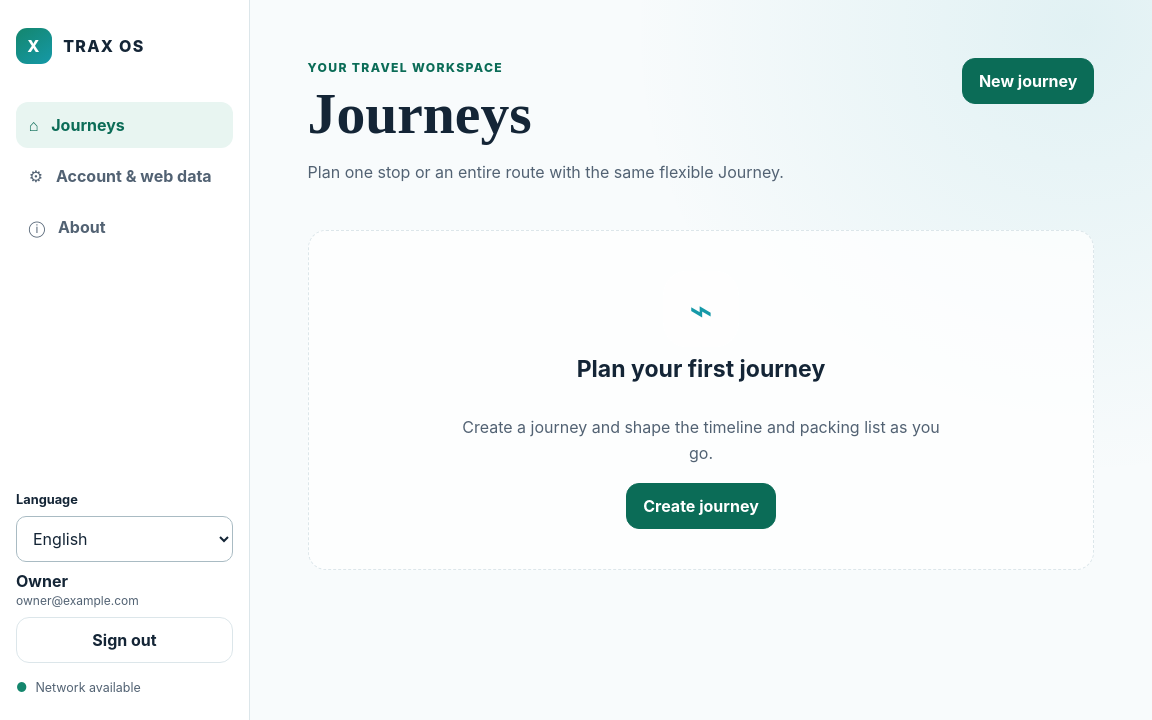
Test: switches the complete shell to Dutch and persists the choice
Expected: the heading "Plan your first journey" is shown, [577,356,825,384]
Step 1. Select "Nederlands" in the dropdown labelled "Language" → (124, 539), box [16,516,233,562]
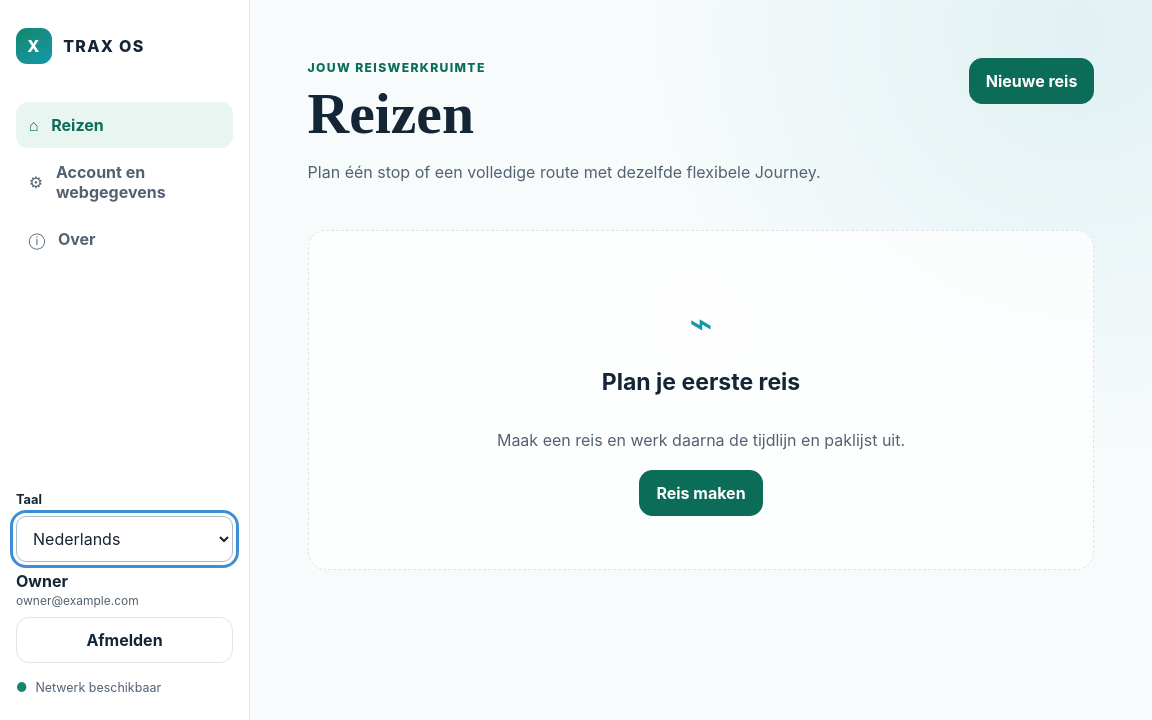
Expected: the heading "Plan je eerste reis" is shown, [602,368,800,396]
